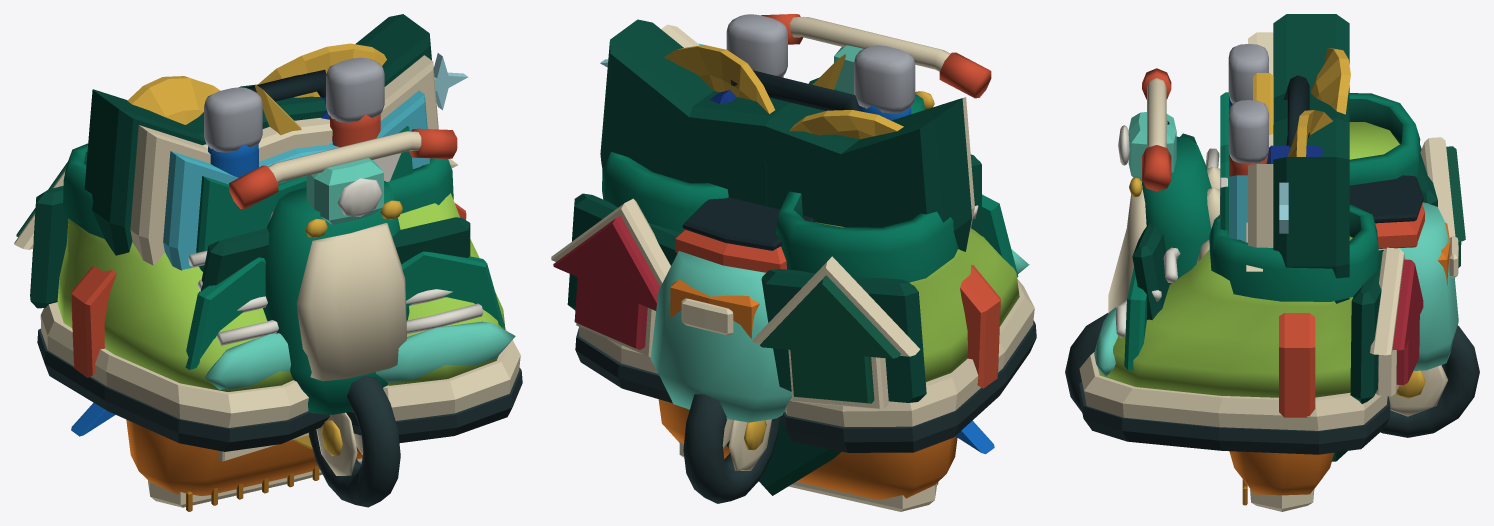
File: powerups-v1.glb
3 renders of one model, left to right at view 1: azimuth 30°, elevation 25°; view 2: azimuth 150°, elevation 25°; view 3: azimuth 270°, elevation 25°, orthographic. The views are drawn at different scales.
Parts seen in each view (by area): view 1: powerup_moon, powerup_moped, powerup_shield, powerup_doublechips, wearable_magnet, powerup_jetpack, powerup_speedburst, powerup_magnet; view 2: powerup_moon, powerup_shield, powerup_moped, powerup_doublechips, wearable_magnet, powerup_jetpack, powerup_speedburst; view 3: powerup_moon, powerup_moped, powerup_shield, powerup_doublechips, powerup_jetpack, wearable_magnet, powerup_speedburst, powerup_magnet.
Boxes of the visible parts, left/top/right/bottom form: powerup_moon: left=14, top=143, right=522, bottom=451; powerup_moped: left=229, top=128, right=457, bottom=507; powerup_shield: left=84, top=14, right=438, bottom=449; powerup_doublechips: left=126, top=43, right=458, bottom=511; wearable_magnet: left=204, top=57, right=384, bottom=177; powerup_jetpack: left=71, top=69, right=466, bottom=377; powerup_speedburst: left=71, top=53, right=468, bottom=436; powerup_magnet: left=255, top=84, right=301, bottom=135; powerup_moon: left=551, top=152, right=1036, bottom=452; powerup_shield: left=600, top=19, right=974, bottom=495; powerup_moped: left=650, top=14, right=991, bottom=503; powerup_doublechips: left=658, top=45, right=957, bottom=511; wearable_magnet: left=726, top=14, right=915, bottom=120; powerup_jetpack: left=730, top=70, right=1000, bottom=388; powerup_speedburst: left=600, top=59, right=994, bottom=454; powerup_moon: left=1079, top=93, right=1465, bottom=454; powerup_moped: left=1065, top=68, right=1479, bottom=437; powerup_shield: left=1196, top=14, right=1349, bottom=461; powerup_doublechips: left=1229, top=48, right=1350, bottom=511; powerup_jetpack: left=1279, top=75, right=1315, bottom=417; wearable_magnet: left=1228, top=44, right=1268, bottom=176; powerup_speedburst: left=1220, top=145, right=1324, bottom=233; powerup_magnet: left=1253, top=73, right=1273, bottom=134.
Size of the model in its own units: 1.4 by 1.42 by 1.4.
